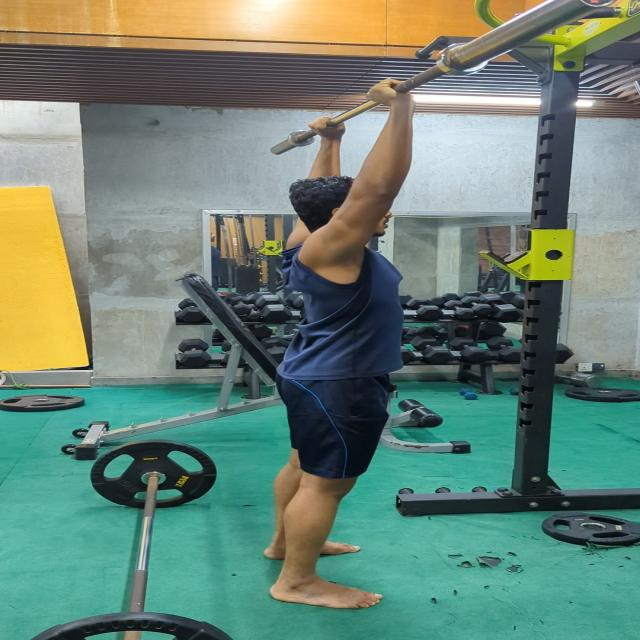Normal_OverheadPress: (240, 66, 433, 612)
